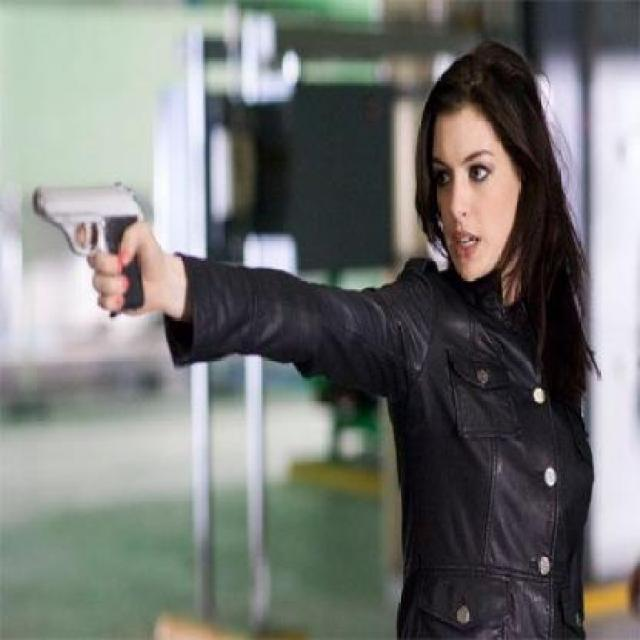gun: (23, 147, 166, 326)
